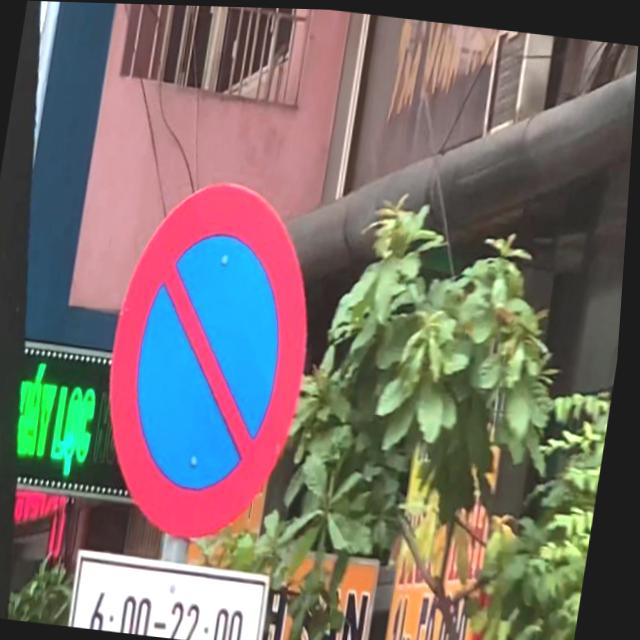Cam do xe: (89, 169, 335, 551)
